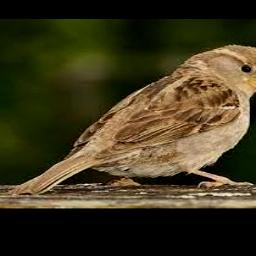Sparrow: (9, 45, 256, 196)
